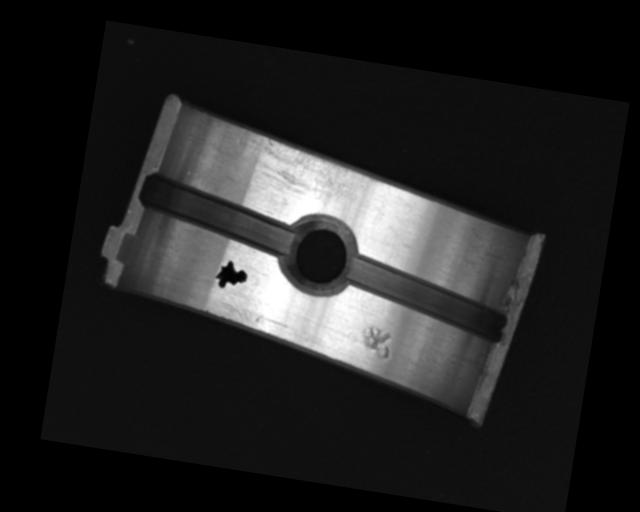blot: (211, 258, 250, 292)
bruise: (357, 324, 394, 361)
gap: (340, 251, 513, 344), (133, 171, 303, 256)
hole: (276, 210, 362, 296)
scratch: (226, 125, 381, 213)
